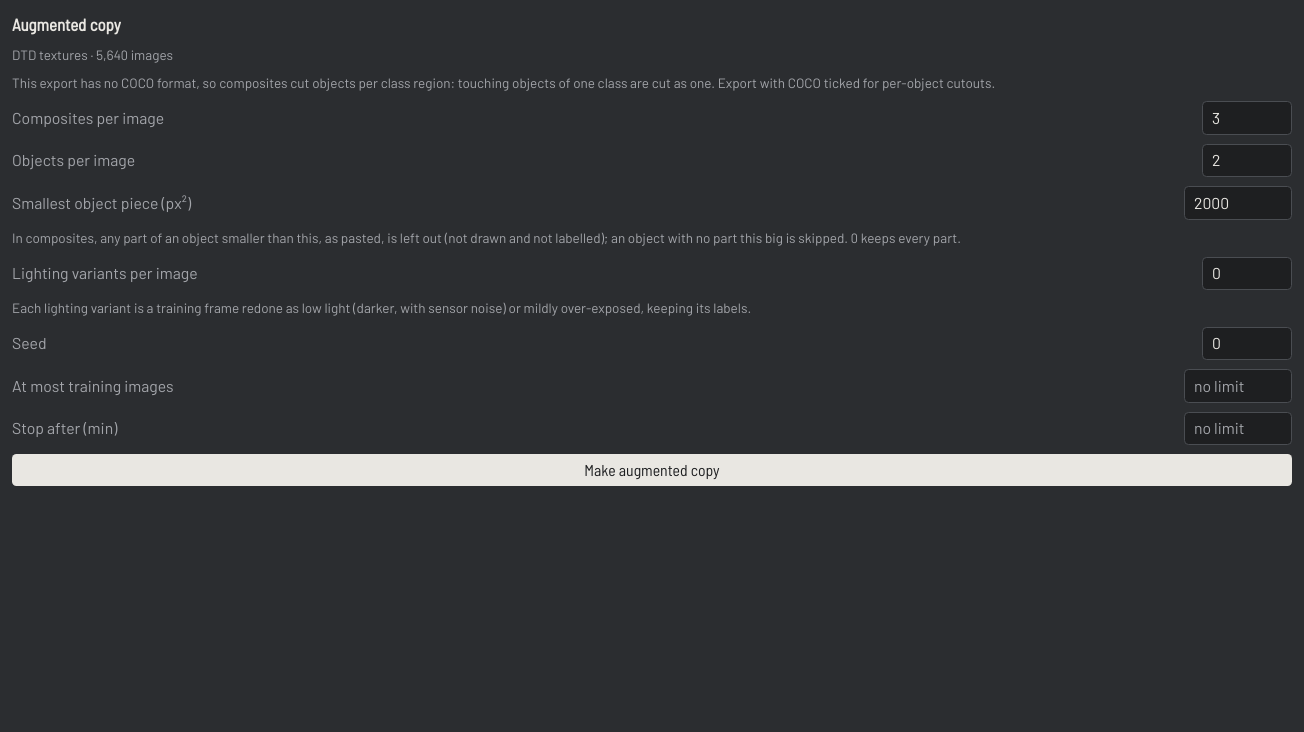
Test: AugmentPanel › shows an alert when the augment job errors
Expected: the text "DTD textures · 5,640 images" is shown, [12,46,173,63]
Click the button "Make augmented copy" at (652, 470), box [12,454,1292,486]
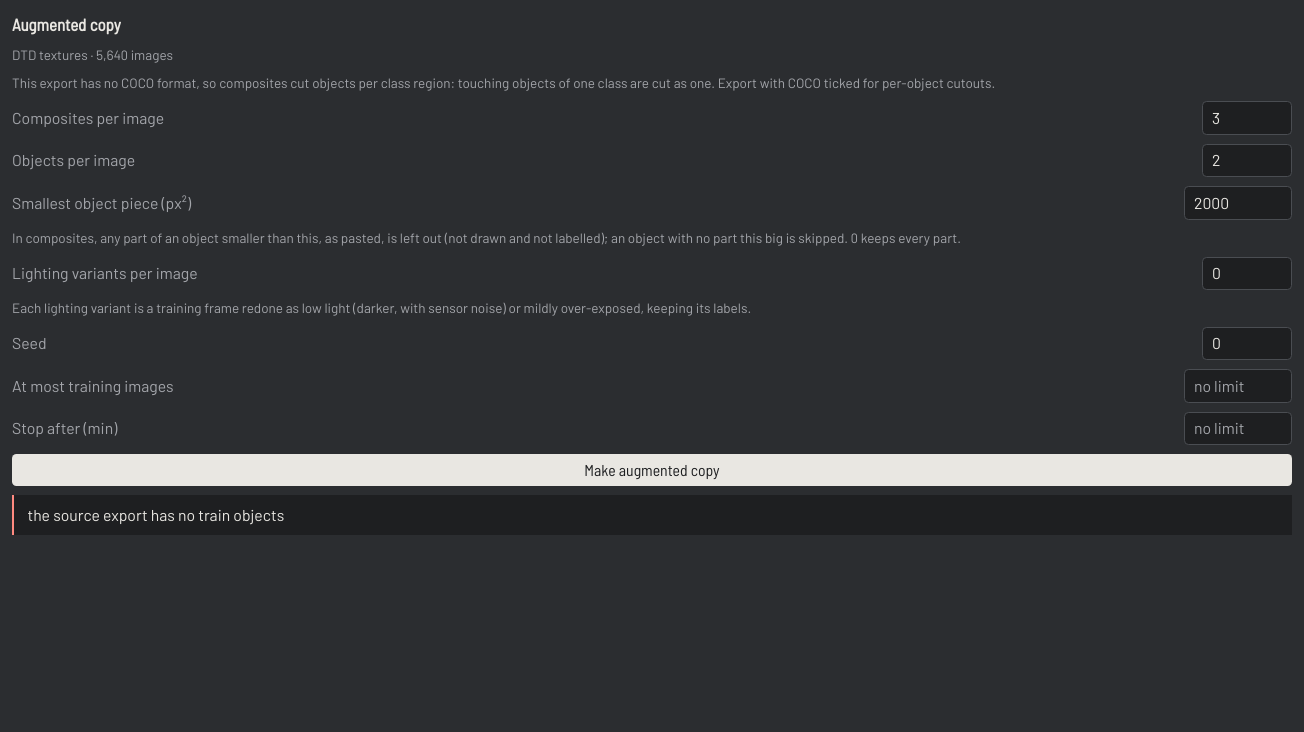
Expected: the message reads "the source export has no train objects", [28,505,284,524]
